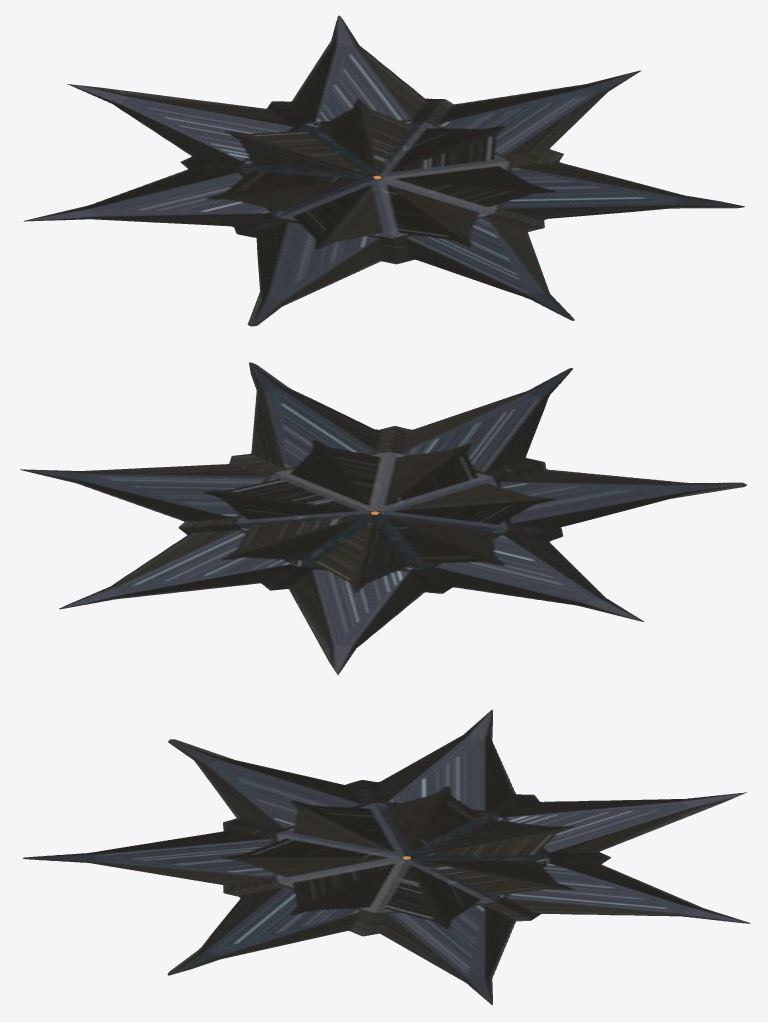
Rendered from IconoMetalMapa.fbx.
3 renders of one model, top to bottom at view 1: azimuth 30°, elevation 25°; view 2: azimuth 150°, elevation 25°; view 3: azimuth 270°, elevation 25°, orthographic. The views are drawn at different scales.
Visible parts, largest first — view 1: Plane; view 2: Plane; view 3: Plane.
Boxes of the visible parts, x1,y1,x2,y2 form: Plane: [23, 15, 744, 326]; Plane: [20, 362, 746, 674]; Plane: [23, 709, 750, 1004].
Size of the model in its own units: 179 by 3.01e-05 by 185.
Materials: 1 (1 with a texture image).
